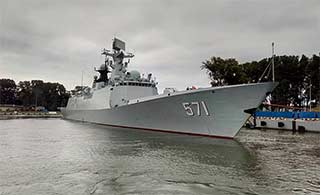warship: (57, 31, 280, 140)
